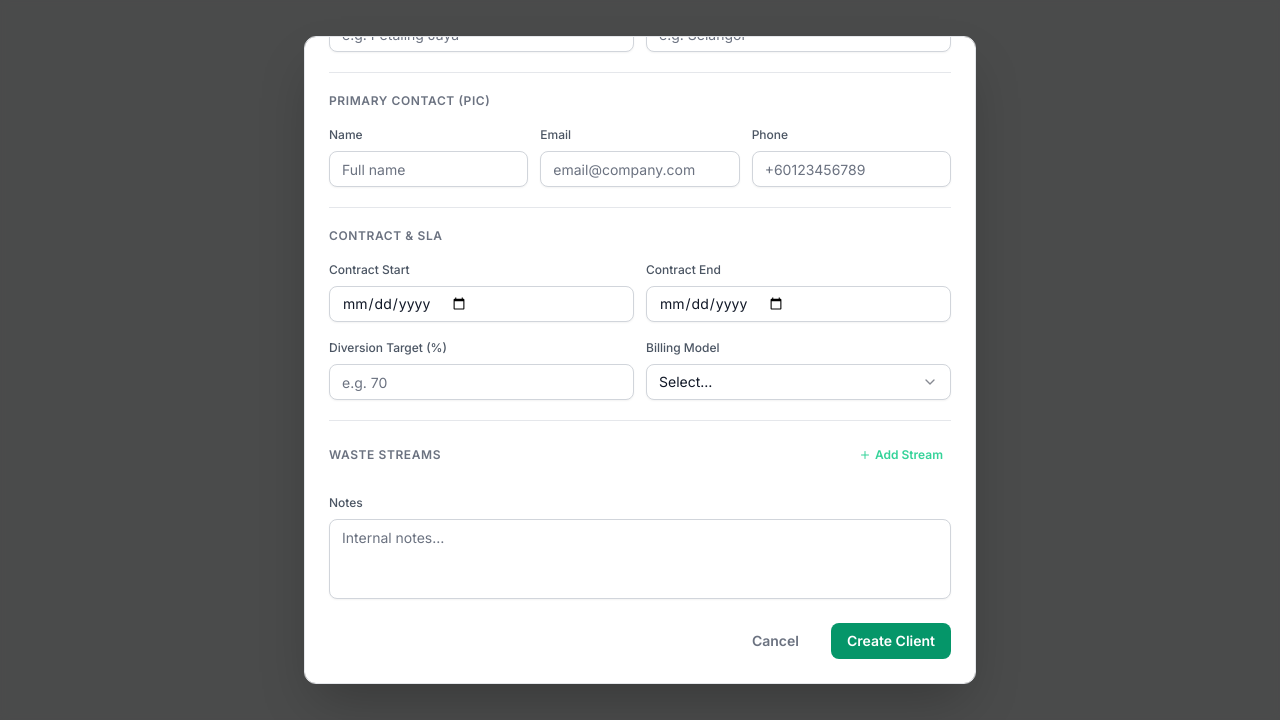
Scenario: ClientForm — Waste Streams › can add multiple waste streams
(page scrolled)
What coordinates should you click on to do the following:
click the button "Add Stream"
I would click on:
 (901, 455)
Its box is [851,441,951,469].
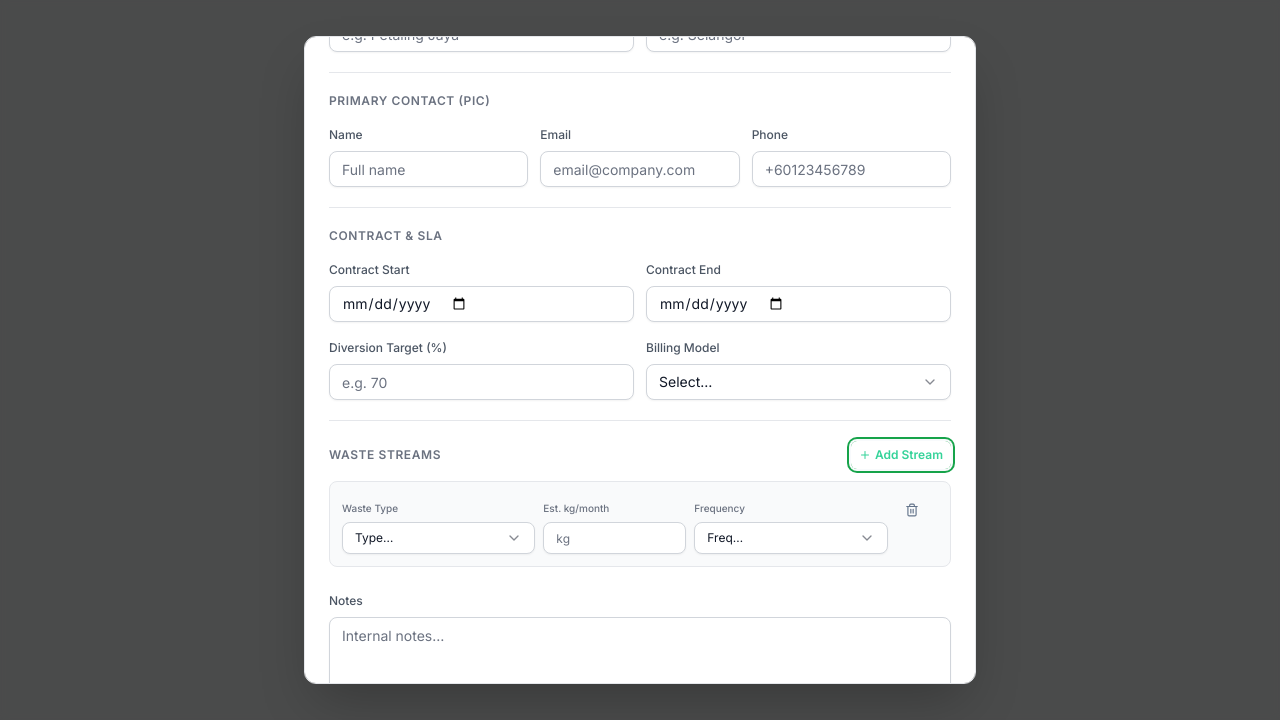
What coordinates should you click on to do the following:
click the button "Add Stream"
I would click on:
 (901, 455)
Its box is [851,441,951,469].
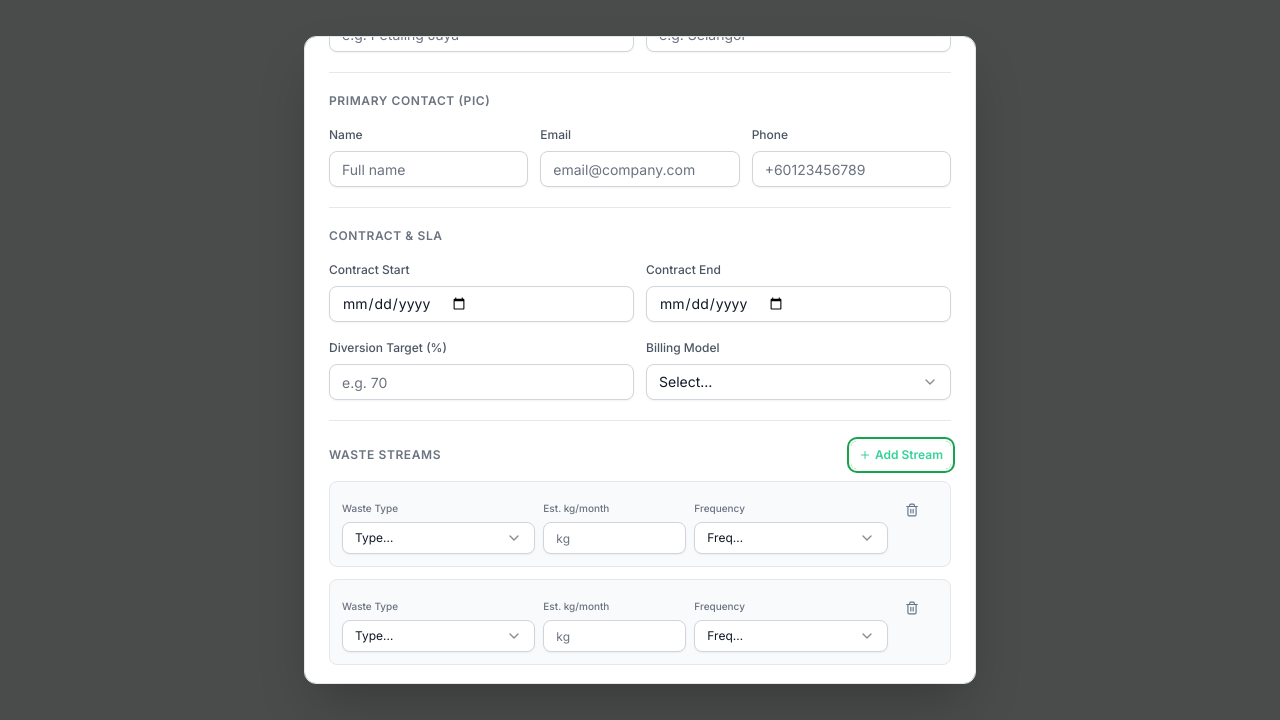
Expected: the text "Waste Type" is shown 2 times, [342,502,398,514]; [342,600,398,612]
